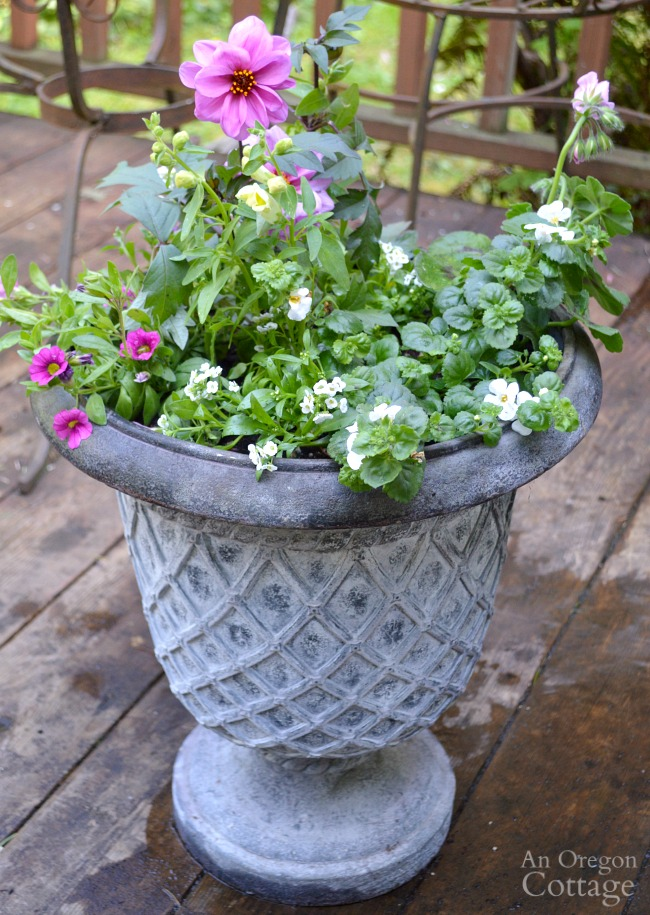plant: (58, 17, 600, 893)
